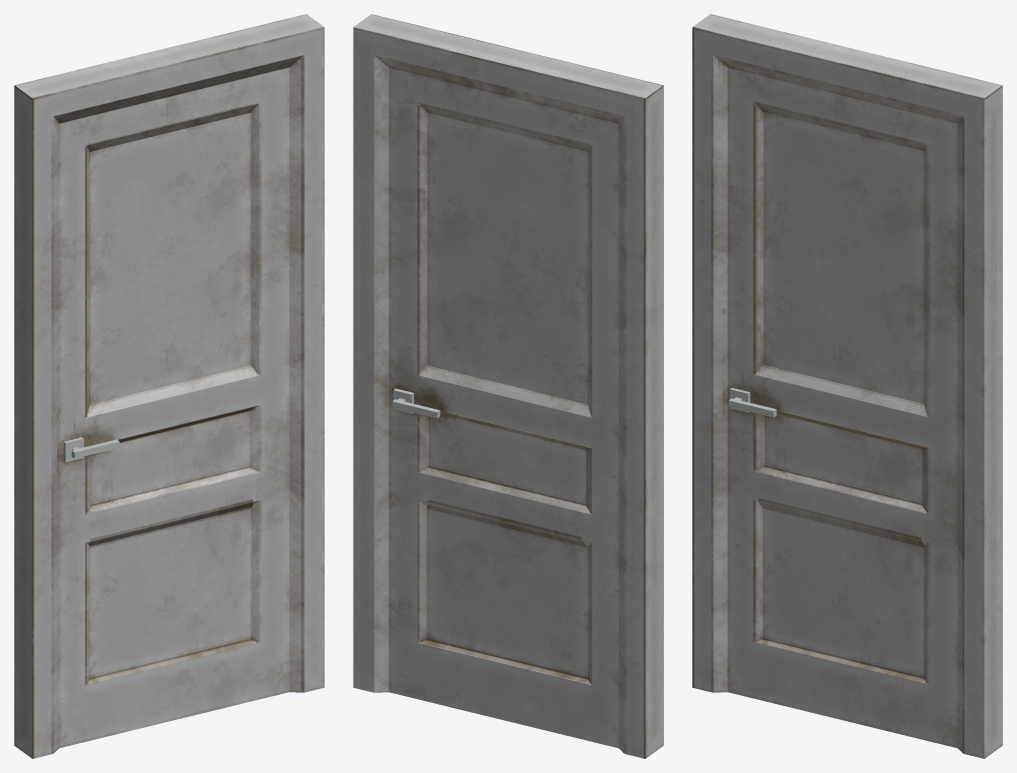
File: Door.glb
3 renders of one model, left to right at view 1: azimuth 30°, elevation 25°; view 2: azimuth 150°, elevation 25°; view 3: azimuth 330°, elevation 25°, orthographic.
Parts seen in each view (by area): view 1: pCube4; view 2: pCube4; view 3: pCube4.
Part boxes in pixels (<box>): pCube4: <box>14,14,324,758</box>; pCube4: <box>353,14,663,758</box>; pCube4: <box>692,14,1002,758</box>.
Bounding box in the file's own units: 1.07 × 2.31 × 0.1544.
Materials: 1 (1 with a texture image).
